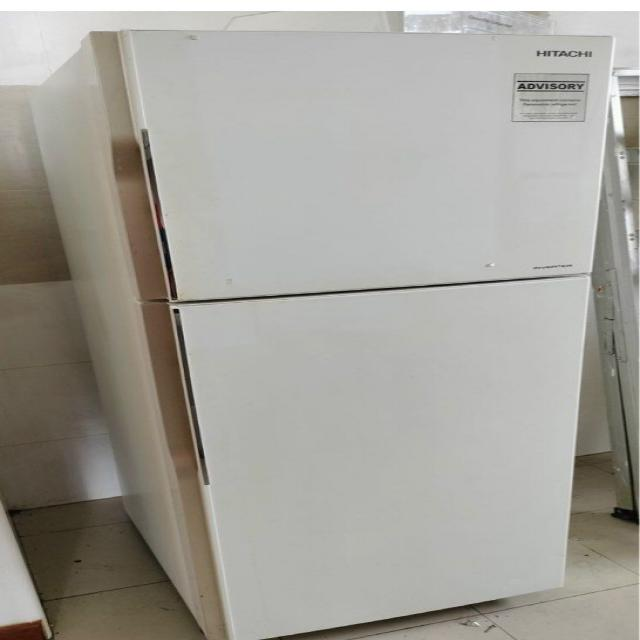refrigerator: (84, 28, 616, 637)
